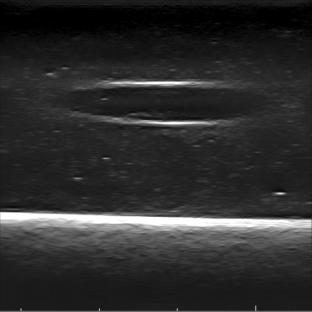vessel: (61, 80, 260, 126)
